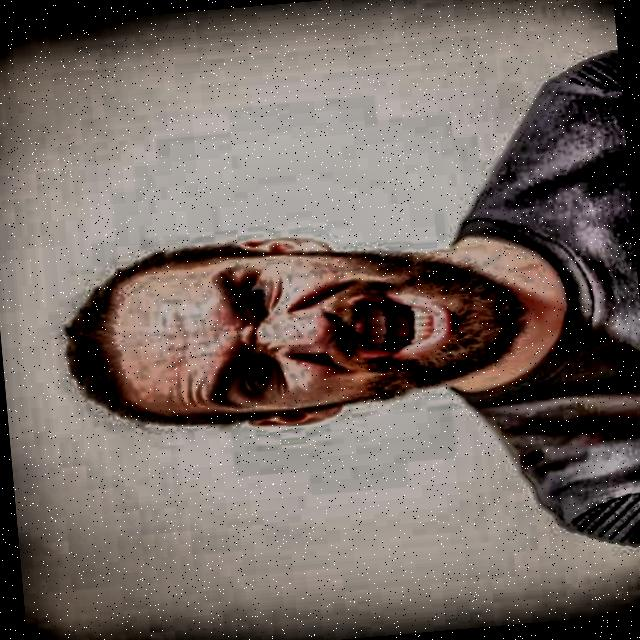angry: (37, 201, 560, 447)
